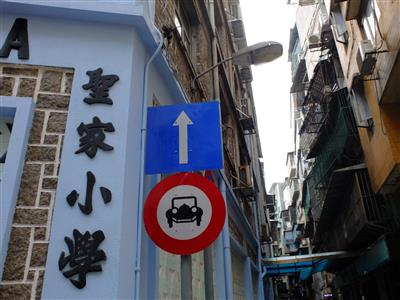noMotorVehicles: (139, 167, 229, 257)
oneway: (142, 96, 227, 177)
